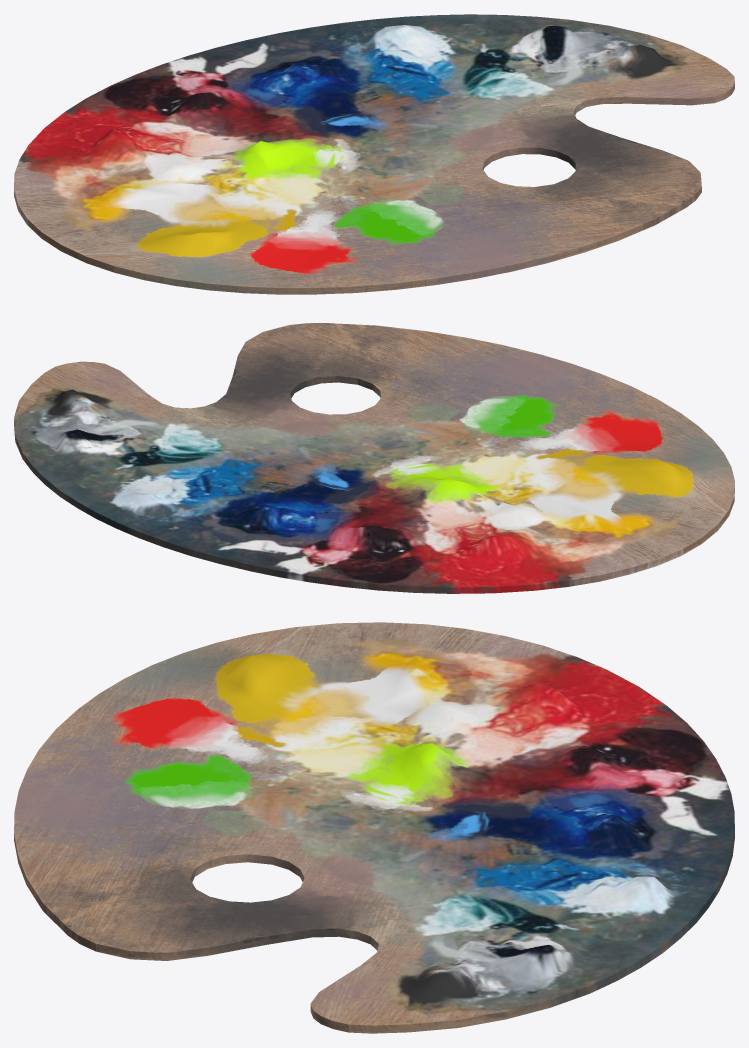
File: Palette_SM.fbx
3 views of the same model, one above another, from view 1: azimuth 30°, elevation 25°; view 2: azimuth 150°, elevation 25°; view 3: azimuth 270°, elevation 25° (orthographic). The views are drawn at different scales.
Visible parts, largest first — view 1: Palette_SM; view 2: Palette_SM; view 3: Palette_SM.
Part boxes in pixels (x1,y1,x2,y2): Palette_SM: [14, 14, 734, 294]; Palette_SM: [14, 323, 734, 593]; Palette_SM: [14, 622, 734, 1033].
Bounding box in the file's own units: 3.26 × 0.106 × 2.46.
